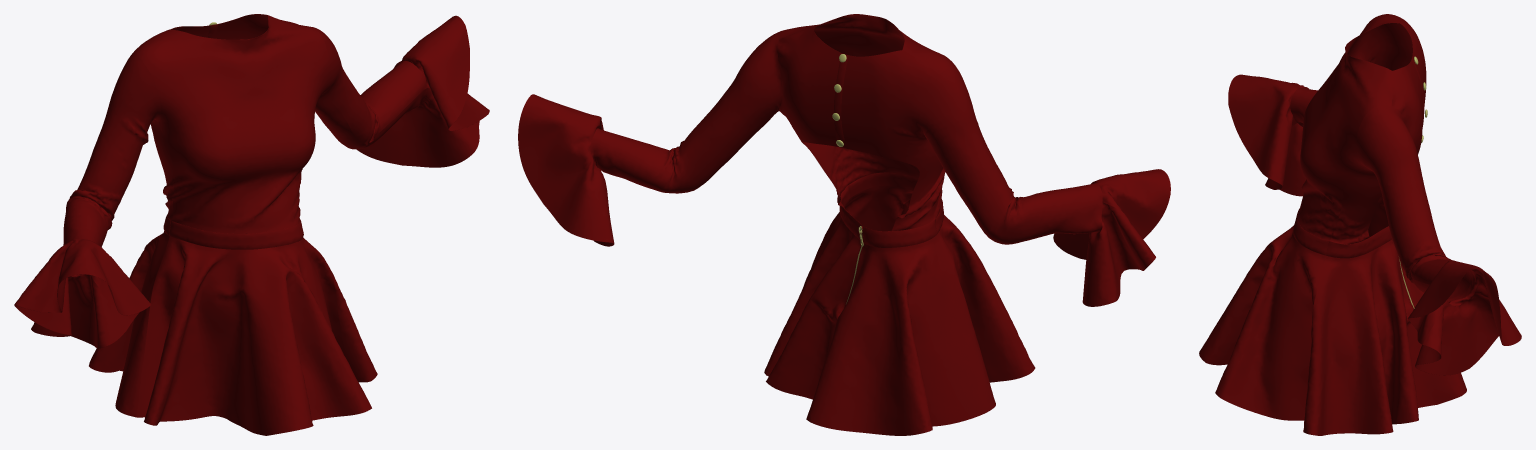
The model's file is mini dress blend.glb.
3 views of the same model, side by side, from view 1: azimuth 30°, elevation 25°; view 2: azimuth 150°, elevation 25°; view 3: azimuth 270°, elevation 25° (orthographic). The views are drawn at different scales.
Visible parts, largest first — view 1: Cloth; view 2: Cloth; view 3: Cloth.
Part boxes in pixels (x1,y1,x2,y2): Cloth: [14, 14, 489, 435]; Cloth: [518, 14, 1170, 435]; Cloth: [1199, 14, 1521, 435].
Size of the model in its own units: 1.1 by 0.7217 by 0.5909.
Materials: 15 (13 with a texture image).
